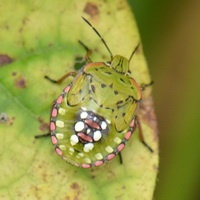insect: (45, 17, 152, 167)
